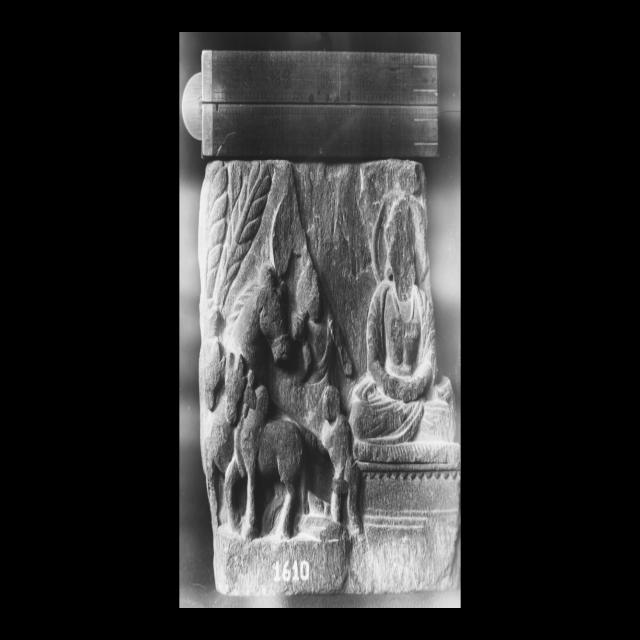buddha-sitting: (350, 196, 454, 444)
